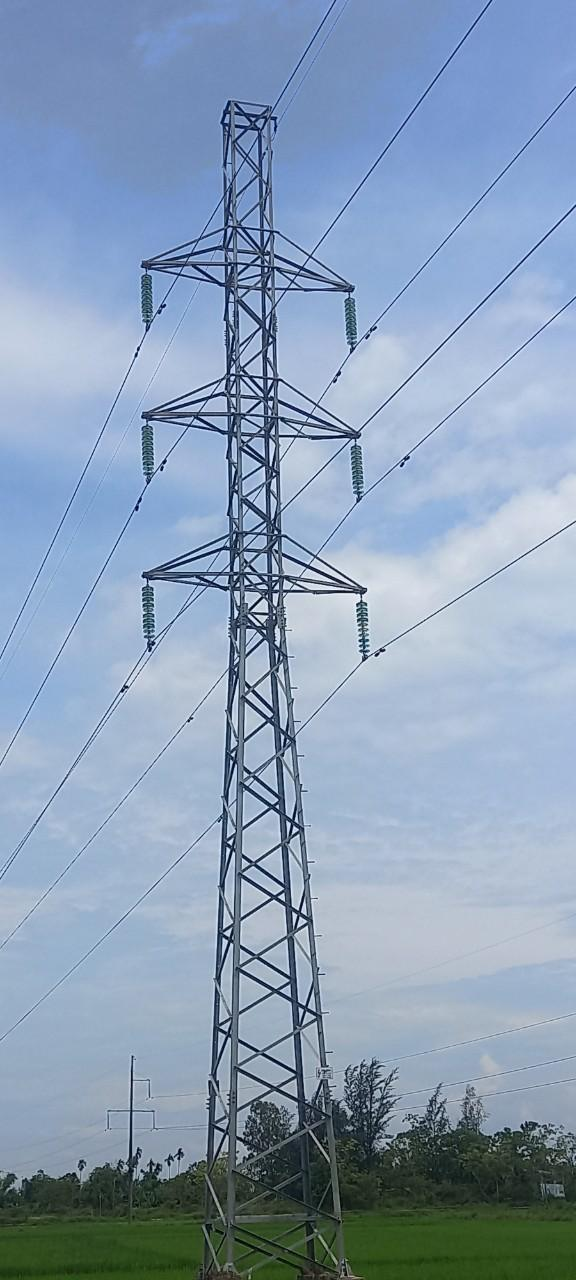power_tower: (114, 84, 384, 1278)
